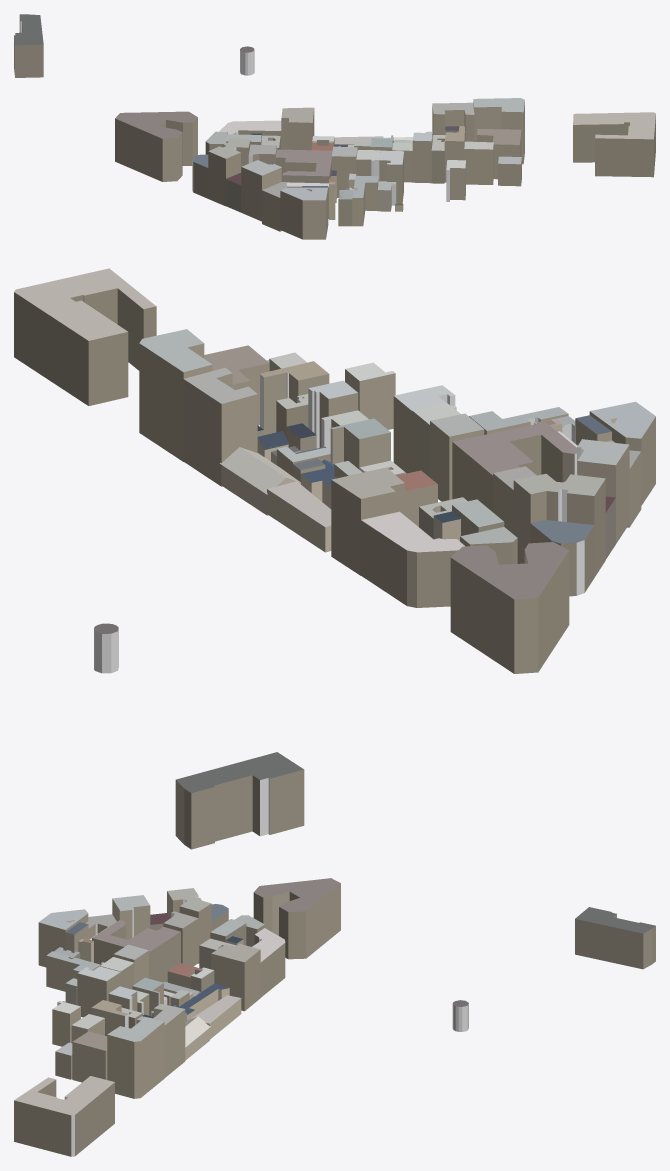
3 renders of one model, top to bottom at view 1: azimuth 30°, elevation 25°; view 2: azimuth 150°, elevation 25°; view 3: azimuth 270°, elevation 25°, orthographic. The views are drawn at different scales.
Parts seen in each view (by area): view 1: tuile; view 2: tuile; view 3: tuile.
Part boxes in pixels (left/top/right/bottom): tuile: left=14, top=14, right=655, bottom=239; tuile: left=14, top=268, right=655, bottom=849; tuile: left=14, top=878, right=655, bottom=1156.
Bounding box in the file's own units: 237 × 30.43 × 285.
